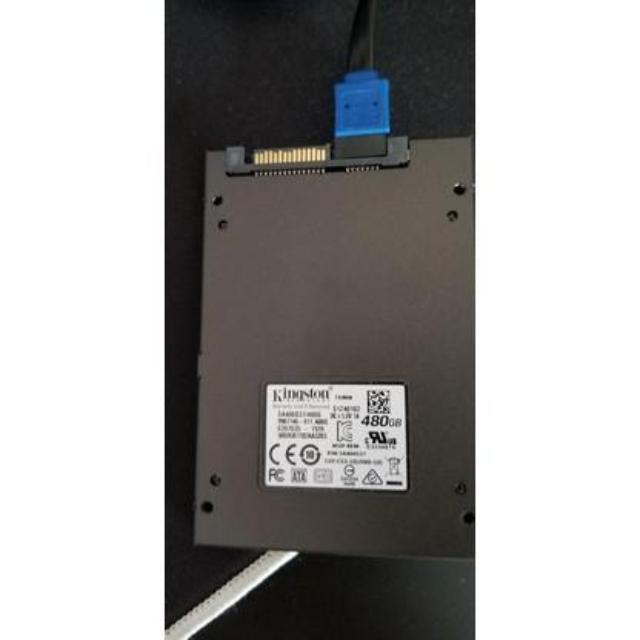DISK: (184, 120, 482, 562)
